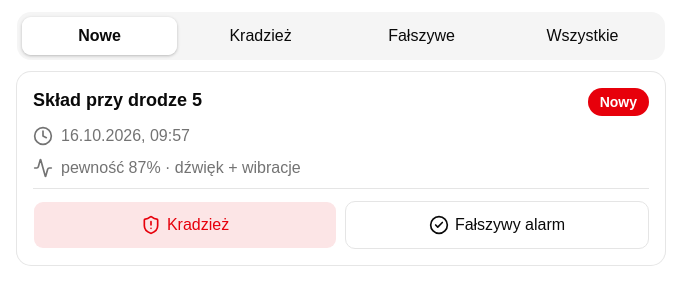
it: AlarmsPage › filters by status
Click the button "Fałszywe": (422, 36) [343,16,500,56]
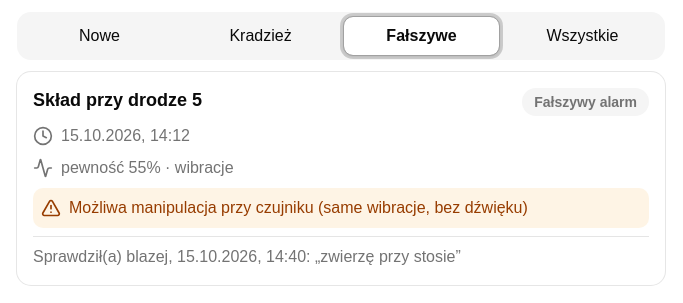
Expected: the list item shows "zwierzę przy stosie", [306,248,461,265]
